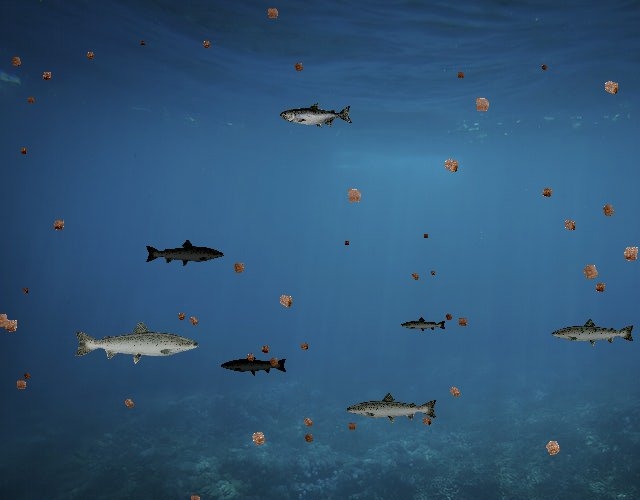Fish: (72, 319, 201, 365), (345, 392, 439, 426), (550, 317, 636, 348), (144, 239, 225, 268), (280, 103, 353, 129), (221, 352, 289, 377), (400, 316, 447, 333)
Pellet: (244, 424, 272, 452), (272, 288, 299, 315), (616, 238, 640, 268), (6, 51, 27, 72), (82, 47, 98, 63), (538, 62, 551, 75), (19, 285, 31, 297)
